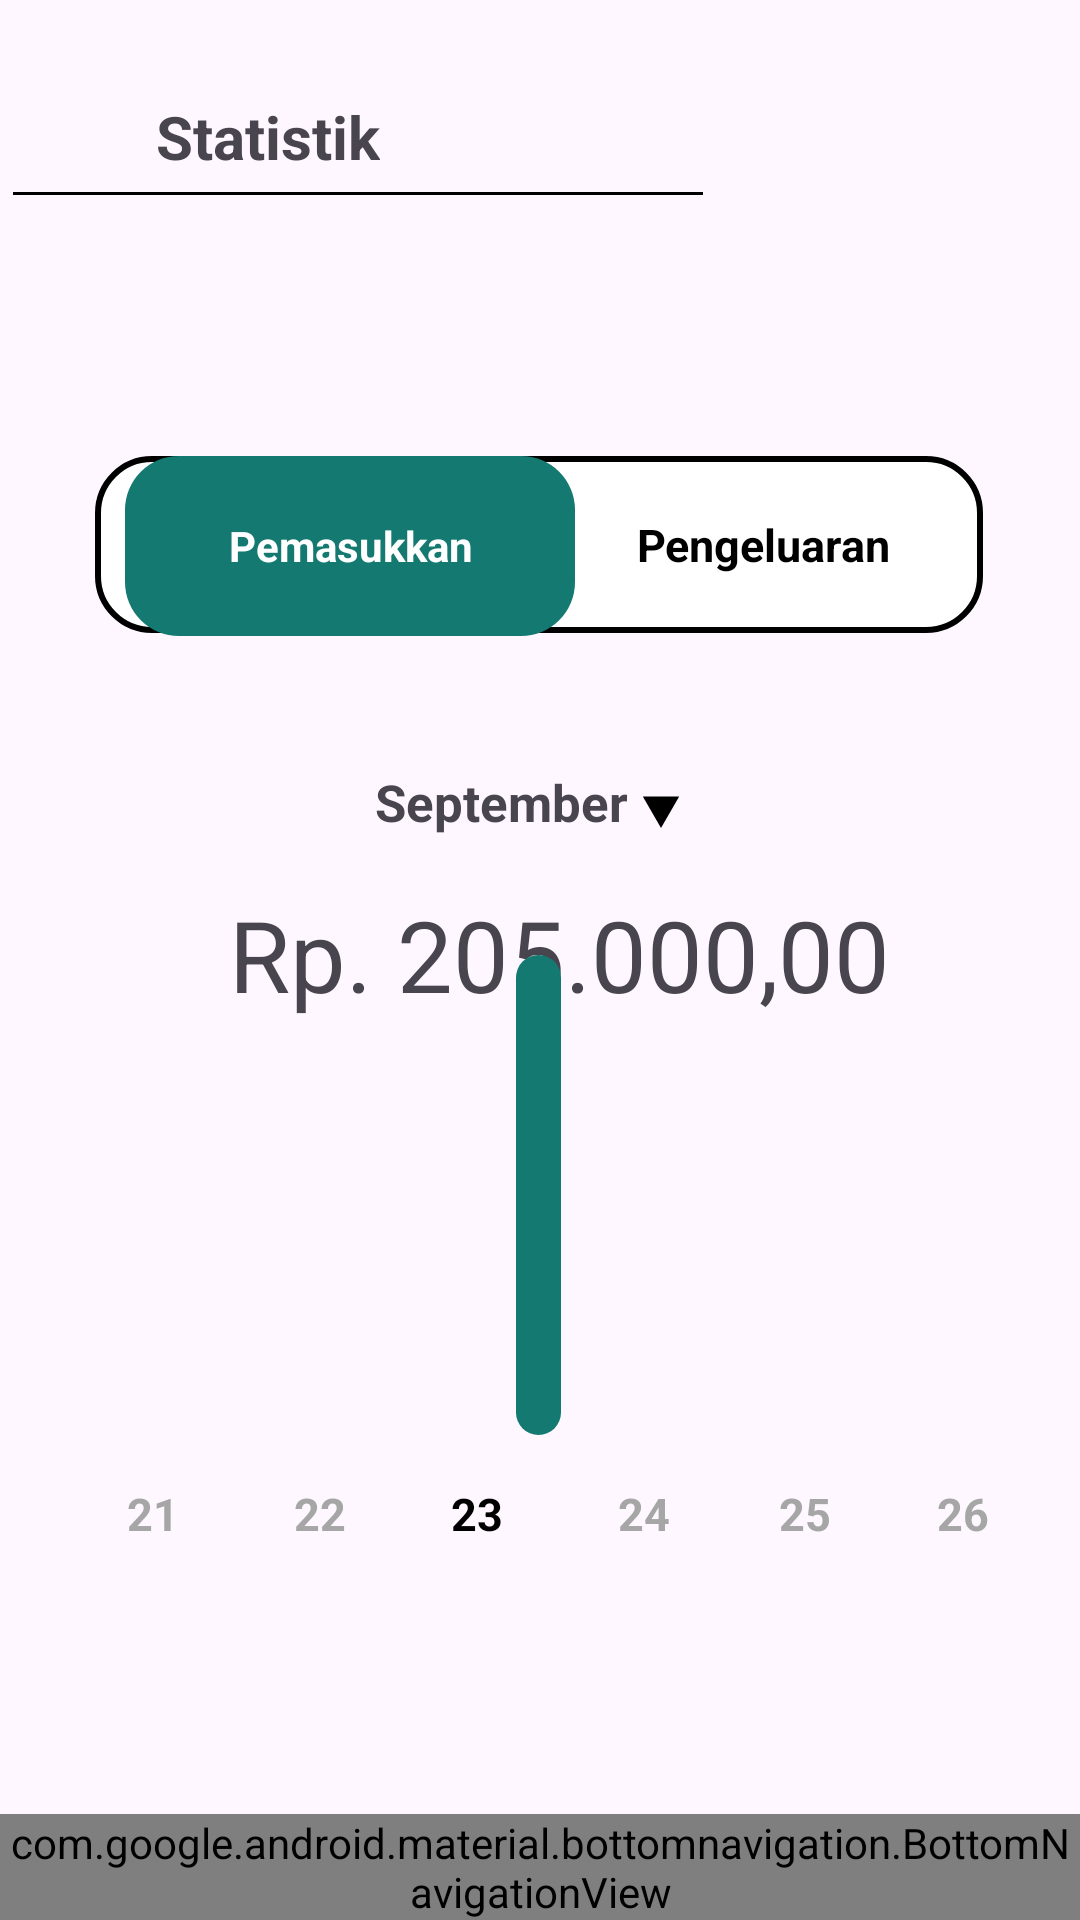

Icons on this 1080x1920 Android screen, each with its box as {"x1": x1, "y1": y1, "x2": x2, "y2": y2}:
polygon: {"x1": 643, "y1": 796, "x2": 679, "y2": 828}
